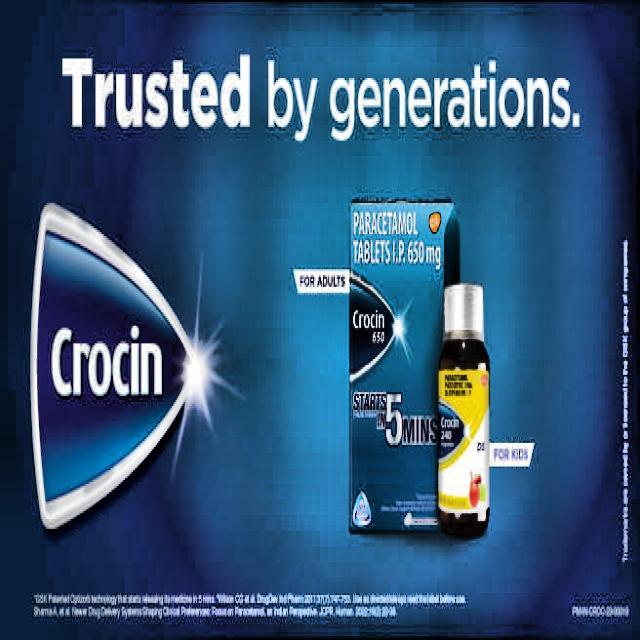Crocin: (24, 183, 207, 497), (351, 276, 394, 369)
